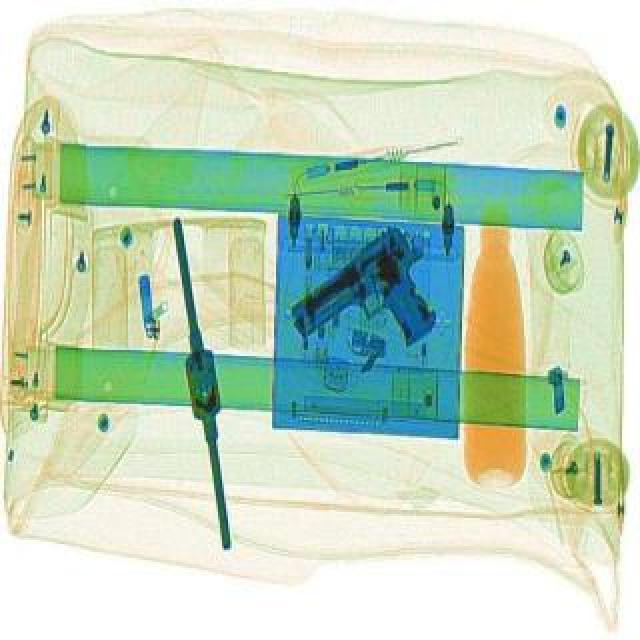gun: (282, 220, 474, 388)
